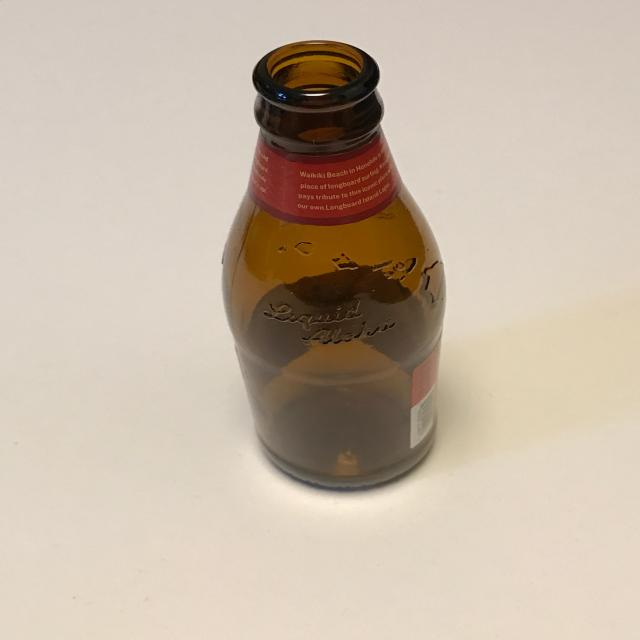glass: (220, 39, 447, 491)
